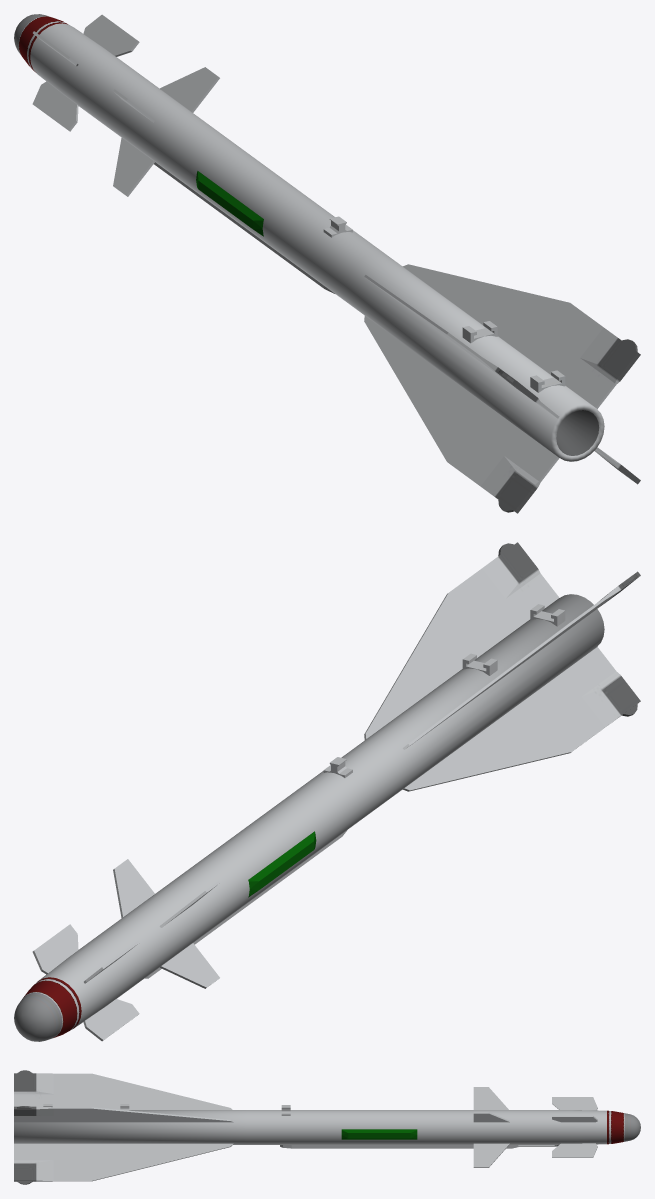
The picture shows the model from 3 angles, top to bottom: view 1: azimuth 30°, elevation 25°; view 2: azimuth 150°, elevation 25°; view 3: azimuth 270°, elevation 25°; orthographic projection. The views are drawn at different scales.
Parts seen in each view (by area): view 1: aa8_body; view 2: aa8_body; view 3: aa8_body.
Boxes of the visible parts, <box> form: aa8_body: <box>14,14,640,513</box>; aa8_body: <box>14,542,640,1041</box>; aa8_body: <box>14,1070,640,1184</box>.
Size of the model in its own units: 0.2894 by 0.2894 by 2.08.
1 material, 1 textured.
